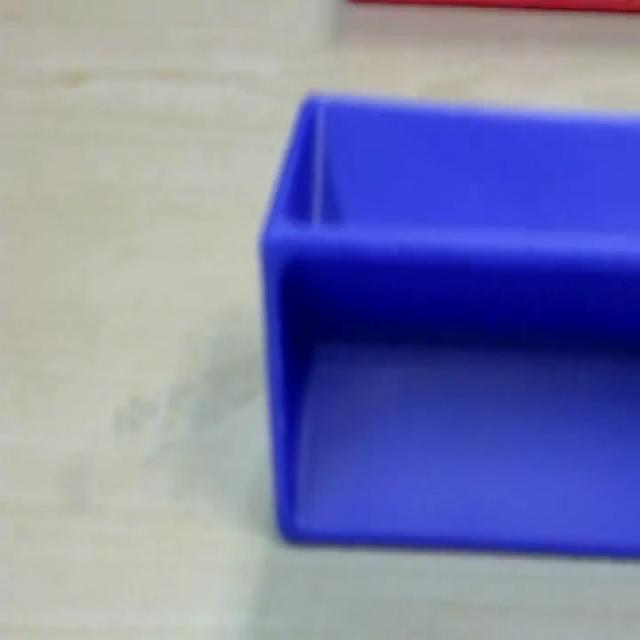blue_block: (258, 87, 639, 557)
